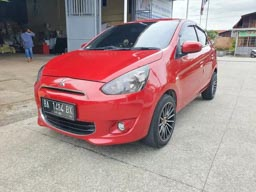plat: (41, 96, 73, 114)
